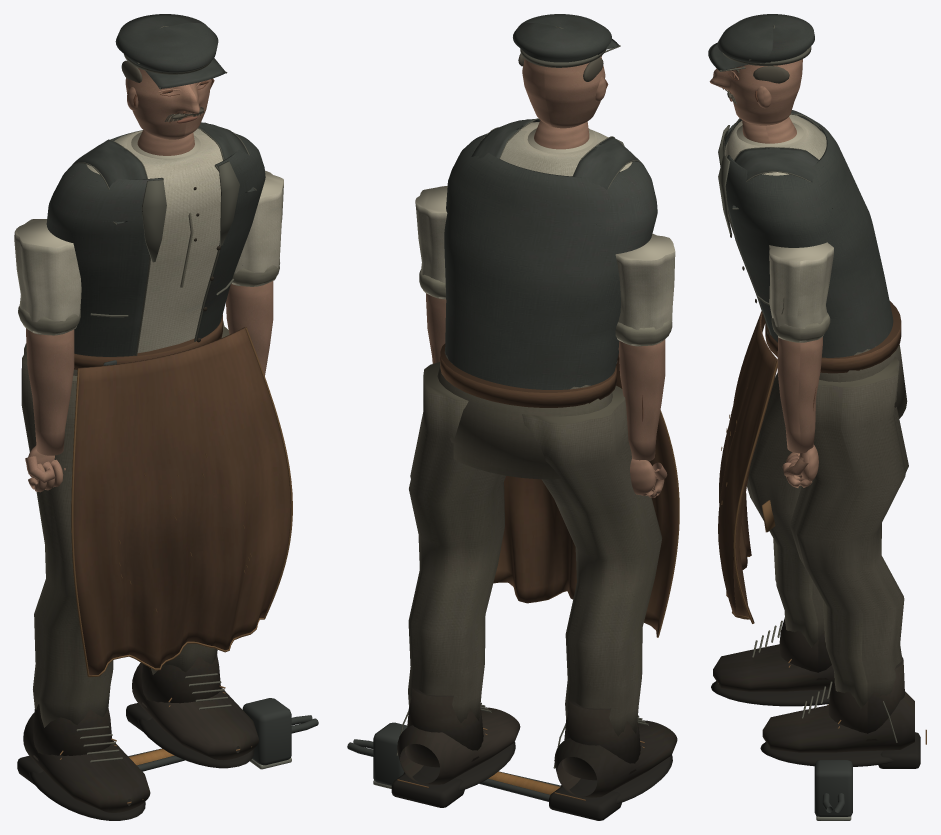
The model's file is chainmaker.glb.
3 views of the same model, side by side, from view 1: azimuth 30°, elevation 25°; view 2: azimuth 150°, elevation 25°; view 3: azimuth 270°, elevation 25° (orthographic). The views are drawn at different scales.
Visible parts, largest first — view 1: Body Smoke worn apron, Torso Faded charcoal wool, Body Oiled work boots, Body Brown wool trousers, Torso Unbleached linen, Head Faded charcoal wool, Upper_L Unbleached linen, Fore_L Weathered skin, Body Boot soles, Head Weathered skin, Torso Worn wool edges, Upper_R Unbleached linen (+9 smaller); view 2: Body Brown wool trousers, Torso Faded charcoal wool, Body Smoke worn apron, Body Oiled work boots, Body Boot soles, Upper_L Unbleached linen, Fore_L Weathered skin, Head Weathered skin, Head Faded charcoal wool, Torso Unbleached linen, Upper_R Unbleached linen, Hammer Forged iron (+7 smaller); view 3: Body Brown wool trousers, Torso Faded charcoal wool, Body Oiled work boots, Body Smoke worn apron, Upper_R Unbleached linen, Head Faded charcoal wool, Fore_R Weathered skin, Body Boot soles, Head Weathered skin, Hammer Forged iron, Torso Unbleached linen, Torso Worn wool edges (+7 smaller).
Boxes of the visible parts, left/top/right/bottom form: Body Smoke worn apron: left=73, top=314, right=290, bottom=675; Torso Faded charcoal wool: left=46, top=122, right=265, bottom=356; Body Oiled work boots: left=23, top=653, right=258, bottom=812; Body Brown wool trousers: left=21, top=321, right=229, bottom=727; Torso Unbleached linen: left=86, top=128, right=222, bottom=352; Head Faded charcoal wool: left=115, top=14, right=226, bottom=88; Upper_L Unbleached linen: left=14, top=219, right=81, bottom=334; Fore_L Weathered skin: left=26, top=328, right=74, bottom=455; Body Boot soles: left=17, top=703, right=254, bottom=820; Head Weathered skin: left=125, top=68, right=211, bottom=139; Torso Worn wool edges: left=74, top=127, right=256, bottom=355; Upper_R Unbleached linen: left=232, top=170, right=283, bottom=286; Body Brown wool trousers: left=408, top=350, right=662, bottom=736; Torso Faded charcoal wool: left=444, top=119, right=657, bottom=389; Body Smoke worn apron: left=440, top=343, right=678, bottom=637; Body Oiled work boots: left=397, top=687, right=677, bottom=797; Body Boot soles: left=391, top=742, right=672, bottom=820; Upper_L Unbleached linen: left=615, top=233, right=675, bottom=346; Fore_L Weathered skin: left=618, top=339, right=665, bottom=461; Head Weathered skin: left=522, top=56, right=606, bottom=128; Head Faded charcoal wool: left=513, top=14, right=618, bottom=62; Torso Unbleached linen: left=500, top=122, right=632, bottom=176; Upper_R Unbleached linen: left=415, top=186, right=447, bottom=299; Hammer Forged iron: left=373, top=722, right=407, bottom=785; Body Brown wool trousers: left=747, top=344, right=908, bottom=708; Torso Faded charcoal wool: left=724, top=110, right=893, bottom=357; Body Oiled work boots: left=713, top=617, right=914, bottom=752; Body Smoke worn apron: left=718, top=301, right=901, bottom=623; Upper_R Unbleached linen: left=769, top=242, right=833, bottom=342; Head Faded charcoal wool: left=708, top=14, right=814, bottom=70; Fore_R Weathered skin: left=777, top=337, right=822, bottom=453; Body Boot soles: left=711, top=681, right=920, bottom=768; Head Weathered skin: left=709, top=59, right=802, bottom=125; Hammer Forged iron: left=814, top=760, right=852, bottom=816; Torso Unbleached linen: left=724, top=114, right=826, bottom=175; Torso Worn wool edges: left=718, top=113, right=822, bottom=334.
Bounding box in the file's own units: 0.7401 × 1.78 × 0.4854.
Materials: 19 (8 with a texture image).
